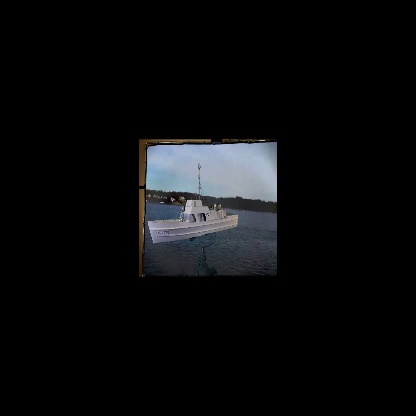YP689: (147, 163, 239, 245)
